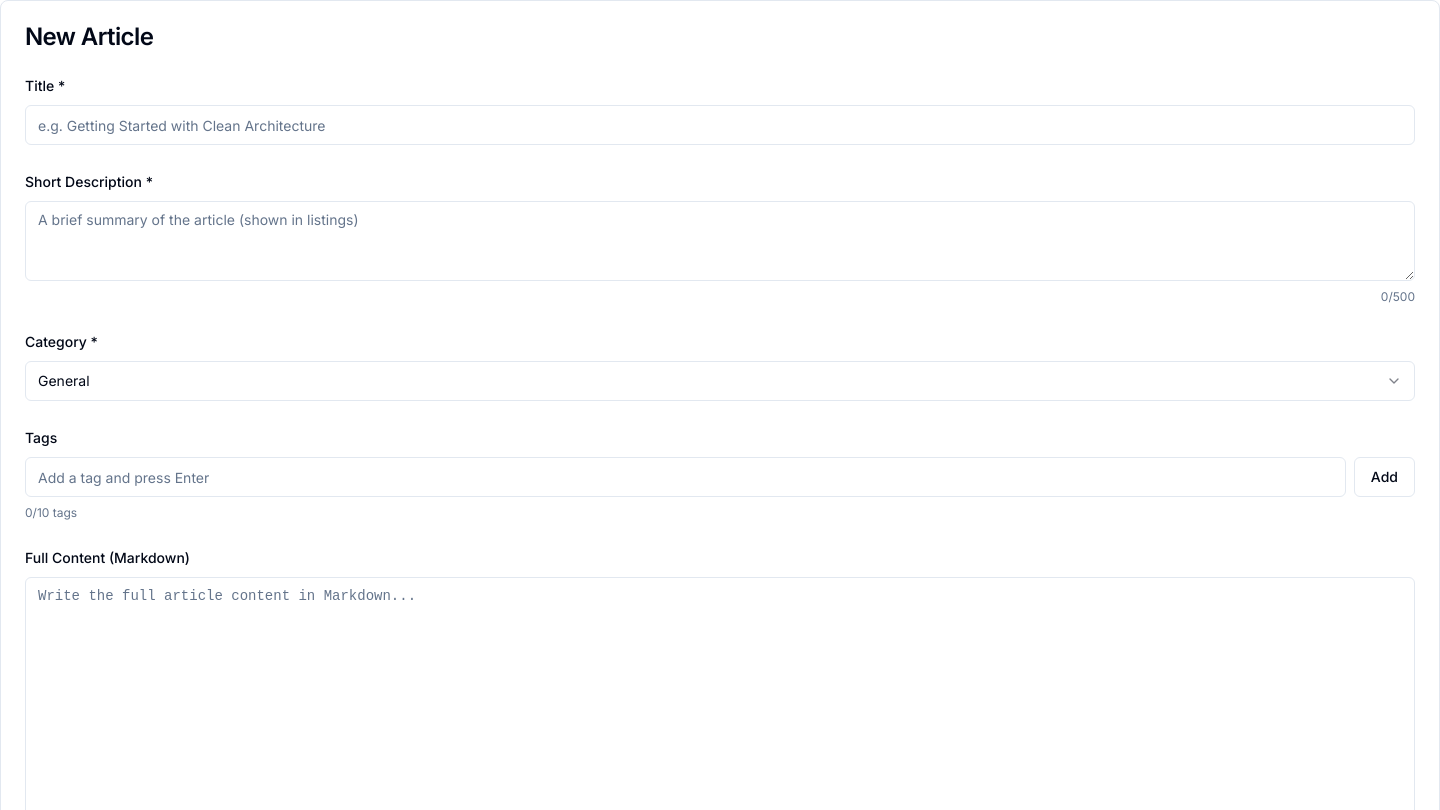
Test case: ArticleForm — create mode › can add a tag via Enter key
Type "my-tag" into the field with placeholder "Add a tag and press Enter" at [685, 477], box [25,457,1346,497]
Then press Enter
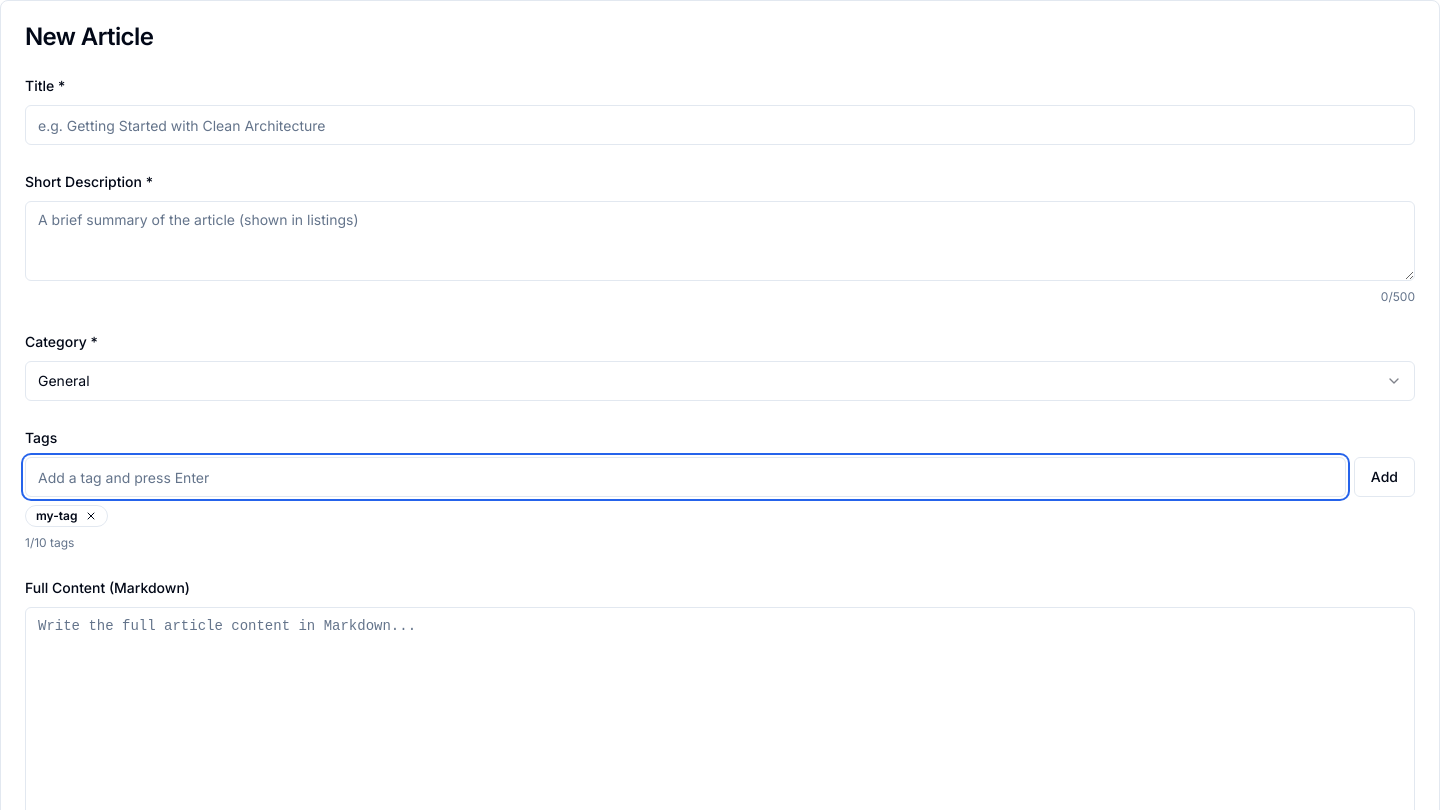
Check: the text "my-tag" is shown, box [25,505,108,527]
